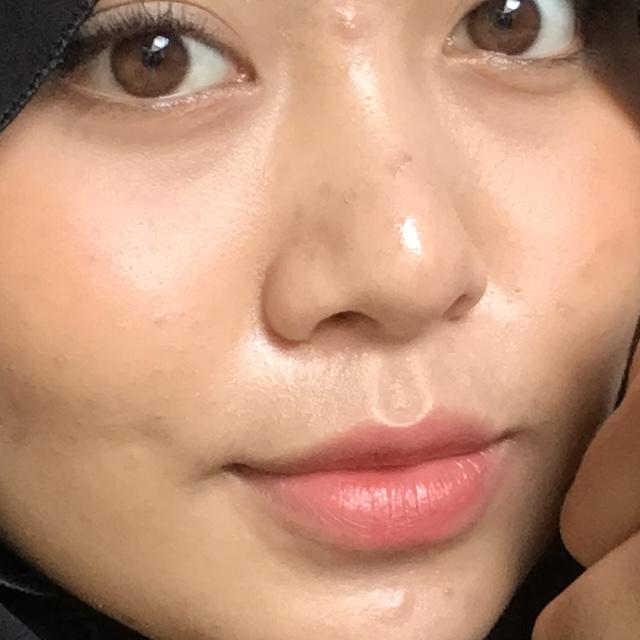telpon: (400, 0, 640, 640)
